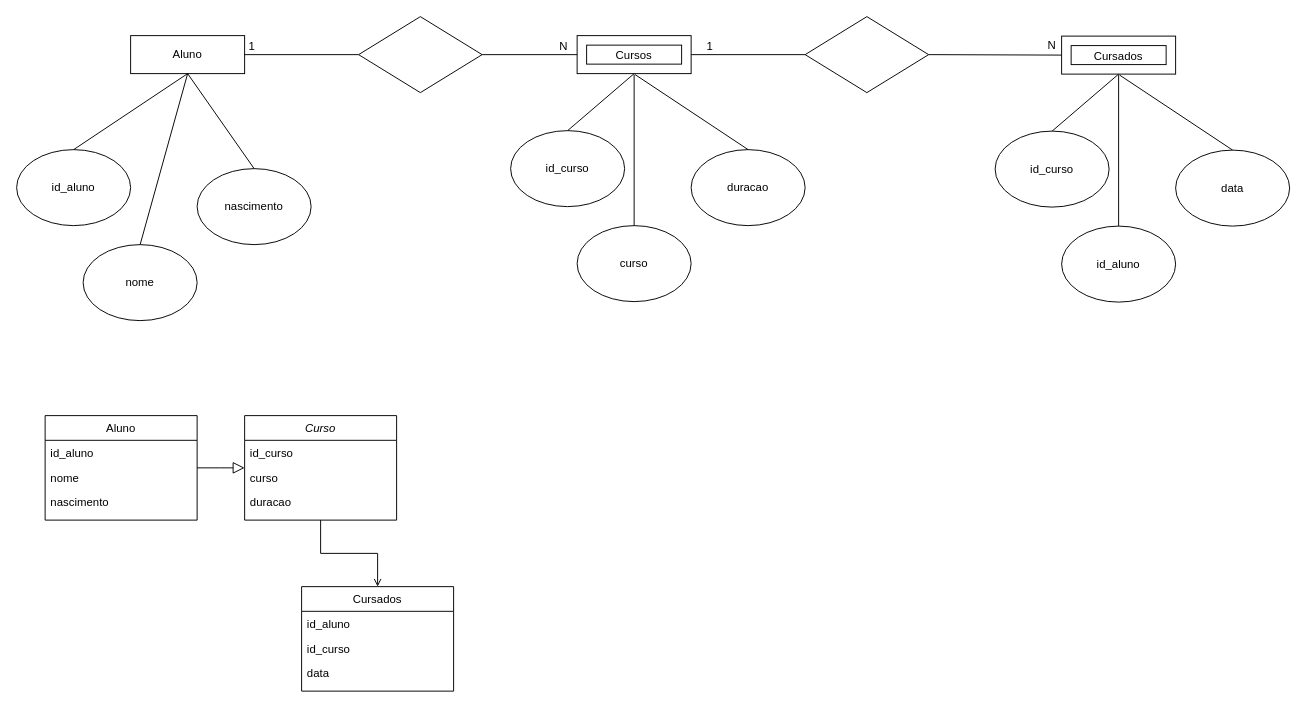
Some shapes in this 1306 by 708 pixel diagram are drawn without their labels. Each missing label, with the centre of its shape:
"Cursa" goes at pixel 420 54.
"Forma" goes at pixel 866 54.
